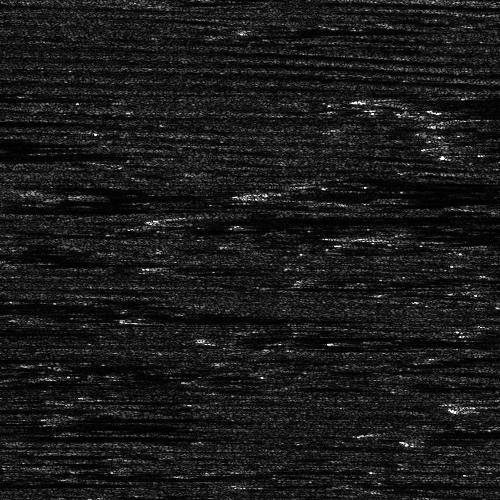rock: (319, 226, 412, 245), (129, 210, 254, 223), (406, 199, 500, 210), (324, 479, 417, 488), (236, 188, 299, 199), (313, 177, 406, 184), (111, 312, 164, 321), (0, 477, 27, 490), (0, 420, 21, 433), (0, 433, 39, 440), (41, 414, 94, 419), (366, 429, 419, 434), (198, 335, 251, 340), (366, 99, 419, 102), (448, 119, 489, 122), (458, 404, 499, 407)
shadow: (192, 210, 500, 223), (268, 188, 500, 199), (366, 226, 500, 245), (0, 420, 165, 433), (138, 312, 364, 321), (0, 143, 85, 164), (0, 202, 167, 211), (8, 433, 218, 440), (225, 335, 500, 340), (371, 479, 500, 488), (0, 477, 89, 490), (360, 177, 496, 184), (0, 300, 136, 305), (68, 414, 197, 419), (393, 429, 500, 434), (393, 99, 500, 102), (0, 406, 58, 411), (0, 135, 28, 140)
